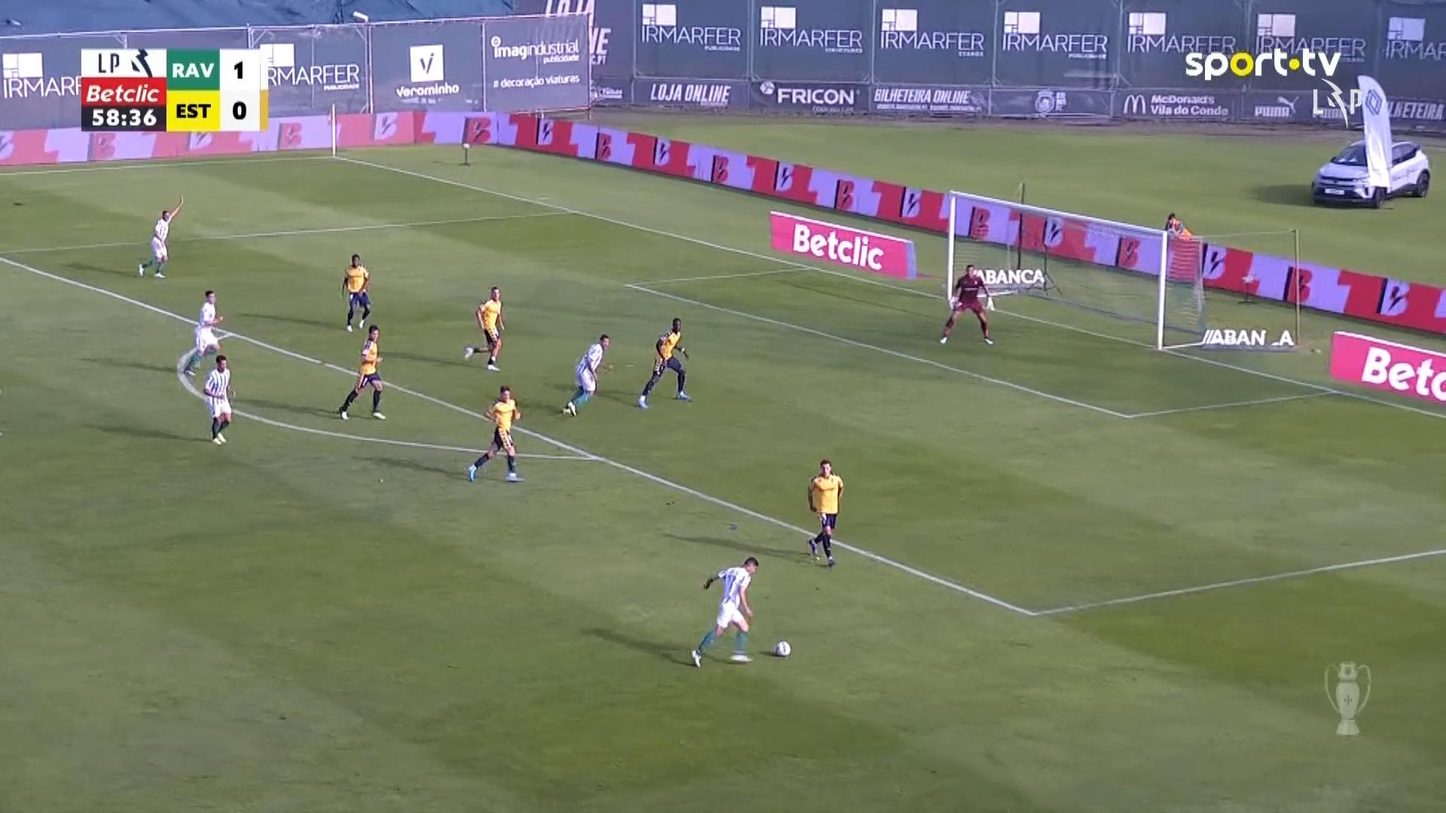ball: (774, 640, 791, 656)
goalkeeper: (939, 263, 996, 346)
player: (690, 556, 759, 668), (466, 385, 524, 483), (637, 317, 692, 409), (337, 324, 386, 420), (560, 333, 614, 417), (806, 458, 844, 566), (137, 193, 184, 278), (180, 289, 224, 376), (463, 285, 505, 372), (202, 354, 235, 444), (340, 253, 372, 331)
